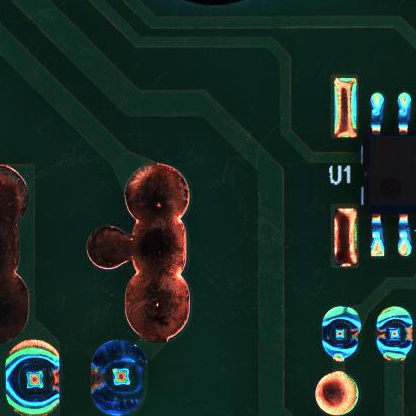spot: (91, 339, 147, 416), (6, 339, 61, 416), (322, 304, 361, 362), (376, 303, 413, 363)
